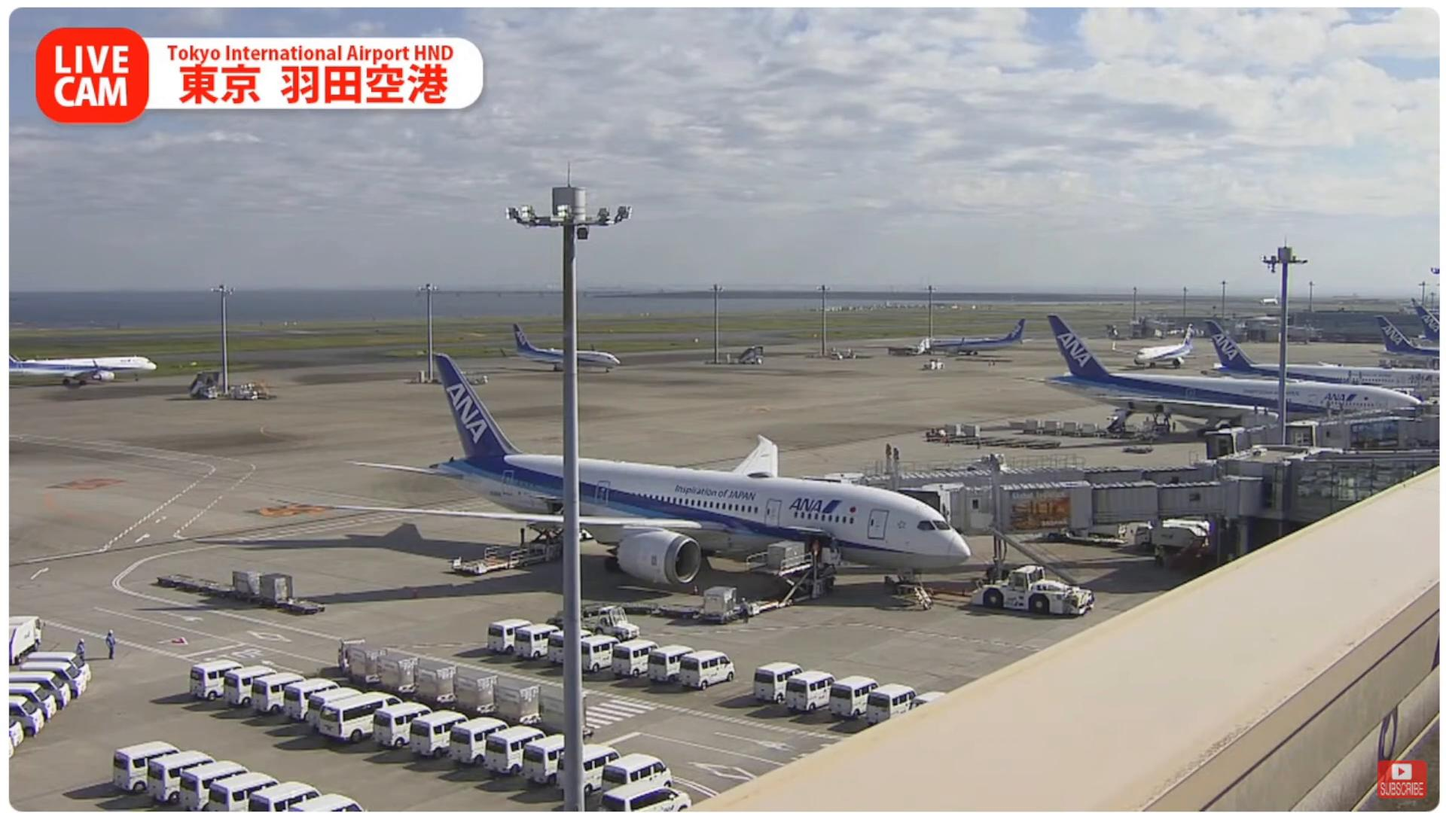APS: (969, 564, 1106, 619)
Aerobridge: (899, 476, 1264, 540), (843, 457, 1217, 496)
Airplane: (330, 354, 973, 599)
Dolly: (153, 566, 329, 616), (550, 582, 748, 625)
JCPL: (717, 553, 843, 617), (450, 522, 565, 575)
Tractor: (586, 597, 642, 642)
Window: (1290, 456, 1440, 523)
